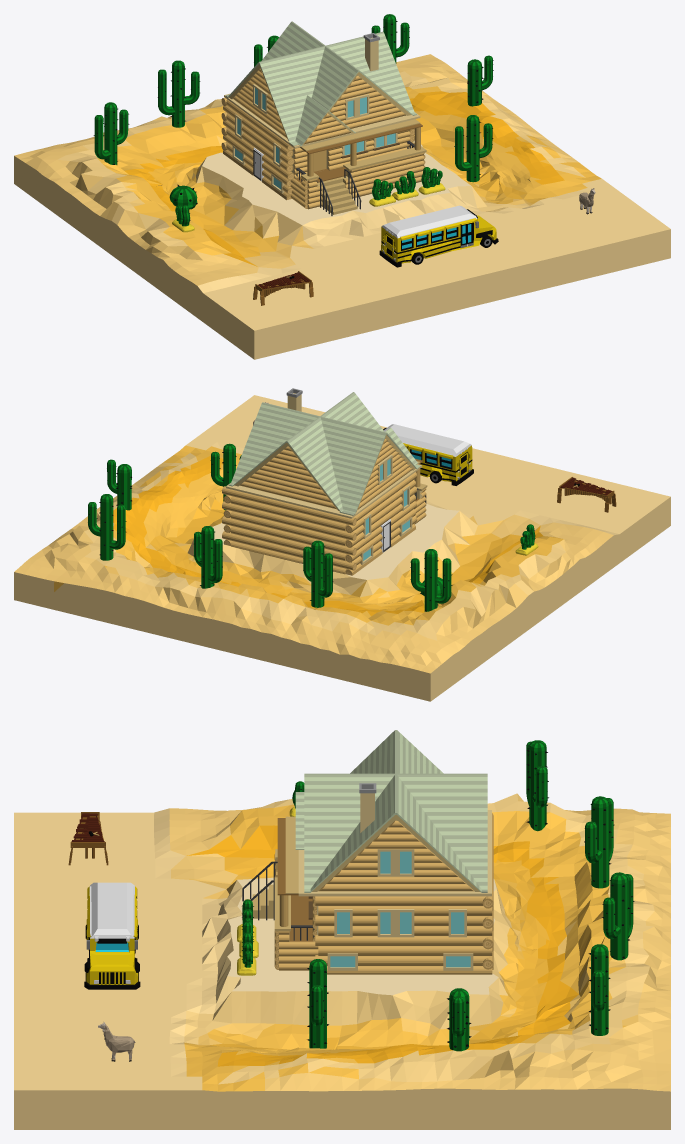
3 views of the same model, one above another, from view 1: azimuth 30°, elevation 25°; view 2: azimuth 150°, elevation 25°; view 3: azimuth 270°, elevation 25° (orthographic). The views are drawn at different scales.
Visible parts, largest first — view 1: Cube.001, Cube.1516, VEHICLES_SCHOOL_BUS, Cylinder.037, Cylinder.044, Cylinder.045, Cylinder.038, Cylinder.042, OBJRANDOM_MARIMBA, Cylinder.039, Cylinder.041, Sphere.023 (+1 smaller); view 2: Cube.001, Cube.1516, VEHICLES_SCHOOL_BUS, Cylinder.042, Cylinder.045, Cylinder.044, Cylinder.043, Cylinder.038, OBJRANDOM_MARIMBA, Cylinder.037; view 3: Cube.001, Cube.1516, VEHICLES_SCHOOL_BUS, Cylinder.043, Cylinder.044, Cylinder.045, Cylinder.042, Cylinder.037, Cylinder.038, OBJRANDOM_MARIMBA, ANIMAL_LLAMA, Cylinder.041.
Boxes of the visible parts, x1=… form: Cube.001: x1=14, y1=54, x2=670, y2=359; Cube.1516: x1=221, y1=21, x2=426, y2=215; VEHICLES_SCHOOL_BUS: x1=379, y1=205, x2=498, y2=267; Cylinder.037: x1=454, y1=115, x2=493, y2=182; Cylinder.044: x1=157, y1=60, x2=200, y2=127; Cylinder.045: x1=93, y1=102, x2=129, y2=164; Cylinder.038: x1=467, y1=55, x2=493, y2=106; Cylinder.042: x1=371, y1=14, x2=409, y2=63; OBJRANDOM_MARIMBA: x1=253, y1=271, x2=313, y2=305; Cylinder.039: x1=369, y1=179, x2=395, y2=206; Cylinder.041: x1=418, y1=167, x2=445, y2=194; Sphere.023: x1=169, y1=184, x2=197, y2=209; Cube.001: x1=14, y1=395, x2=670, y2=701; Cube.1516: x1=222, y1=388, x2=427, y2=575; VEHICLES_SCHOOL_BUS: x1=383, y1=424, x2=473, y2=485; Cylinder.042: x1=88, y1=494, x2=126, y2=560; Cylinder.045: x1=410, y1=549, x2=452, y2=611; Cylinder.044: x1=303, y1=540, x2=333, y2=607; Cylinder.043: x1=193, y1=526, x2=222, y2=588; Cylinder.038: x1=107, y1=459, x2=131, y2=510; OBJRANDOM_MARIMBA: x1=557, y1=477, x2=616, y2=512; Cylinder.037: x1=210, y1=443, x2=241, y2=510; Cube.001: x1=14, y1=793, x2=670, y2=1129; Cube.1516: x1=242, y1=730, x2=493, y2=974; VEHICLES_SCHOOL_BUS: x1=84, y1=882, x2=140, y2=989; Cylinder.043: x1=602, y1=872, x2=634, y2=960; Cylinder.044: x1=584, y1=796, x2=614, y2=888; Cylinder.045: x1=526, y1=740, x2=548, y2=831; Cylinder.042: x1=588, y1=944, x2=610, y2=1035; Cylinder.037: x1=307, y1=959, x2=328, y2=1048; Cylinder.038: x1=447, y1=988, x2=471, y2=1051; OBJRANDOM_MARIMBA: x1=68, y1=812, x2=108, y2=865; ANIMAL_LLAMA: x1=98, y1=1022, x2=135, y2=1061; Cylinder.041: x1=237, y1=932, x2=256, y2=975.
Size of the model in its own units: 4002 by 1605 by 4001.
41 materials, 3 textured.
